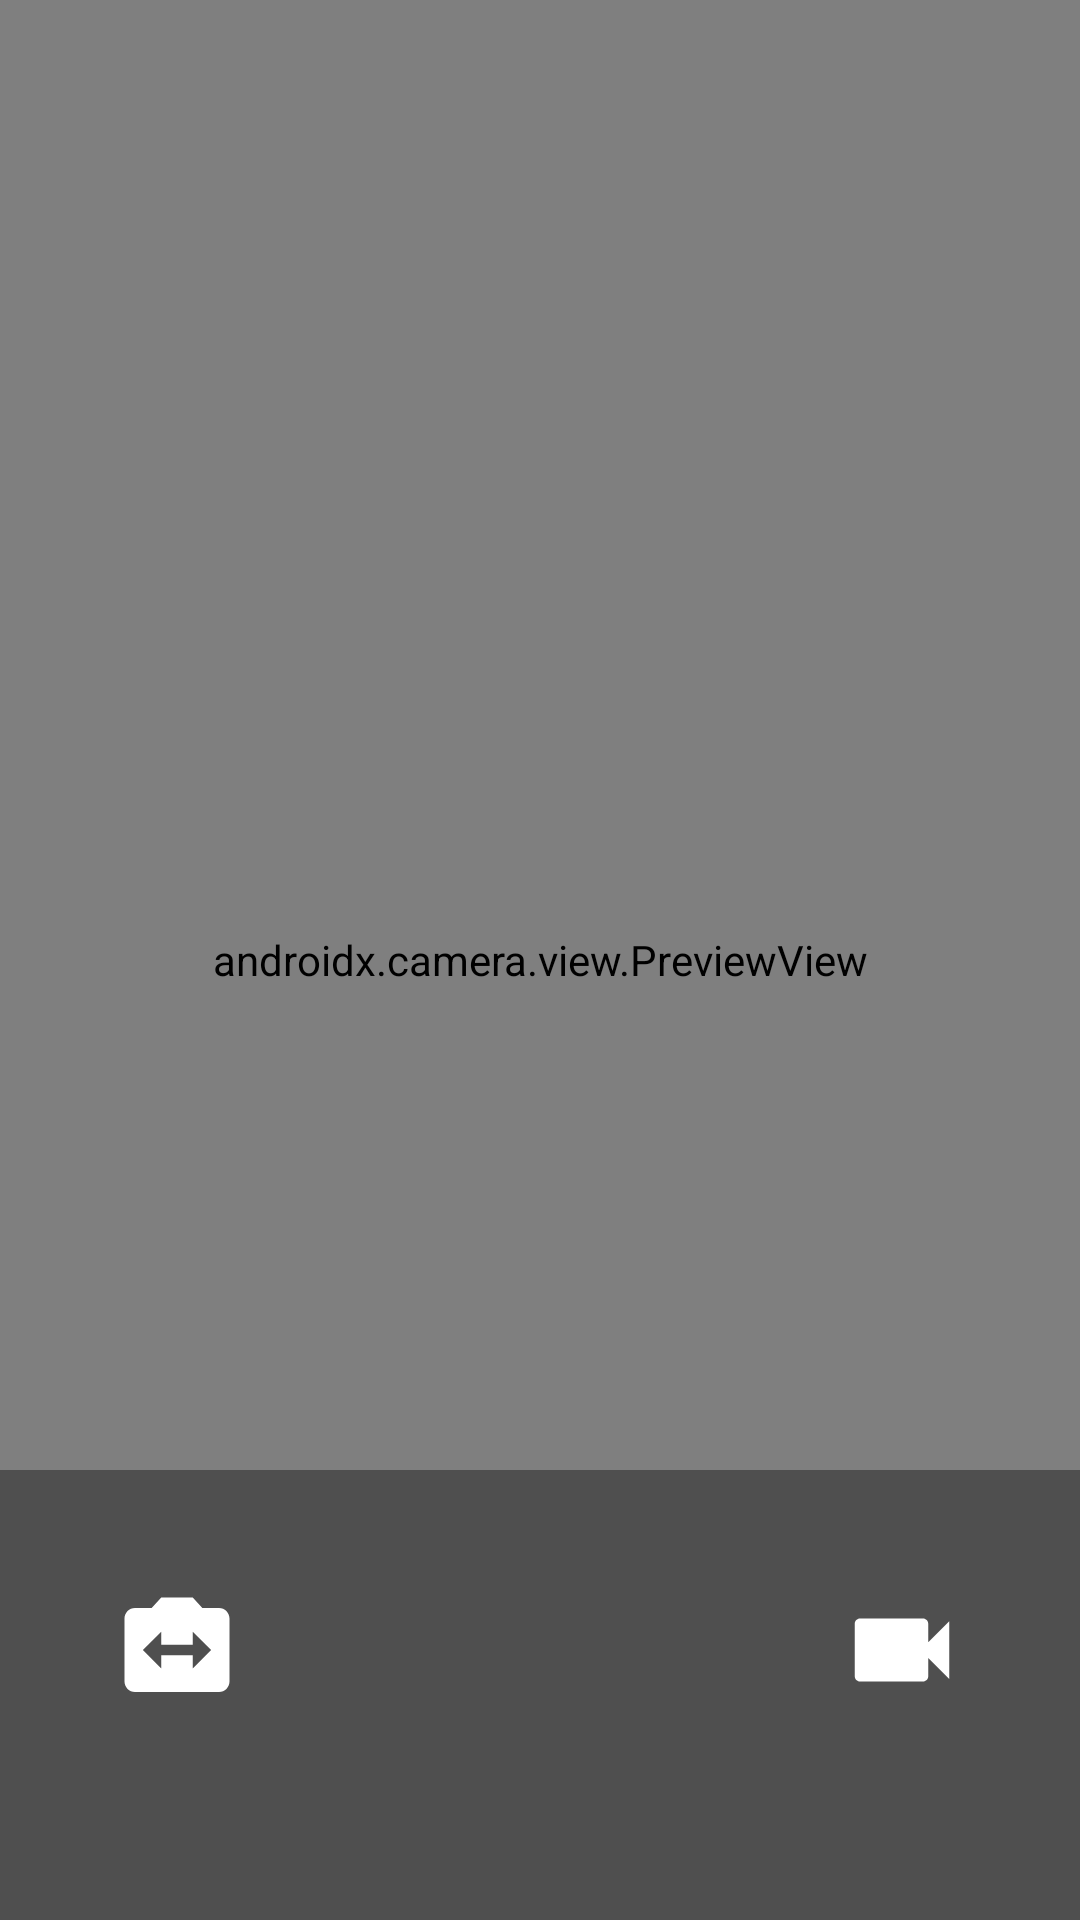

Named icons in this screenshot (1080px x 1920px) and their bounding boxes, (x1, y1, x2, y2):
switch camera: (124, 1597, 230, 1692)
videocam: (854, 1618, 950, 1682)
